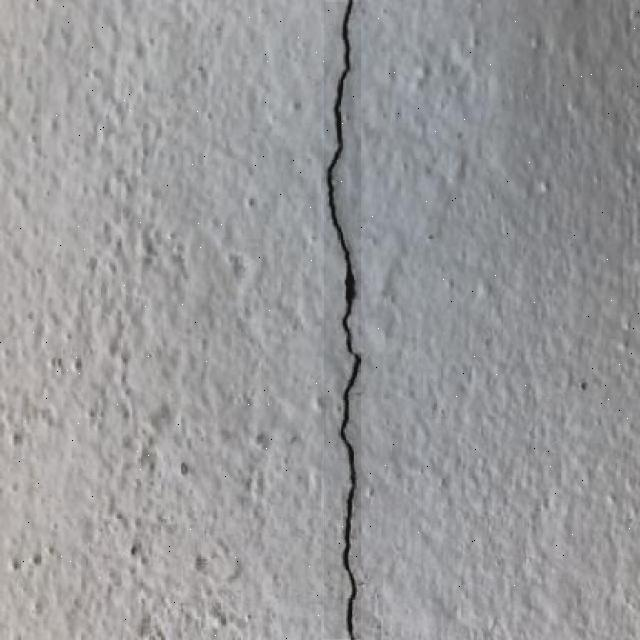crack: (323, 0, 365, 639)
